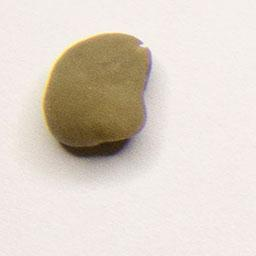peaberry: (40, 30, 155, 150)
